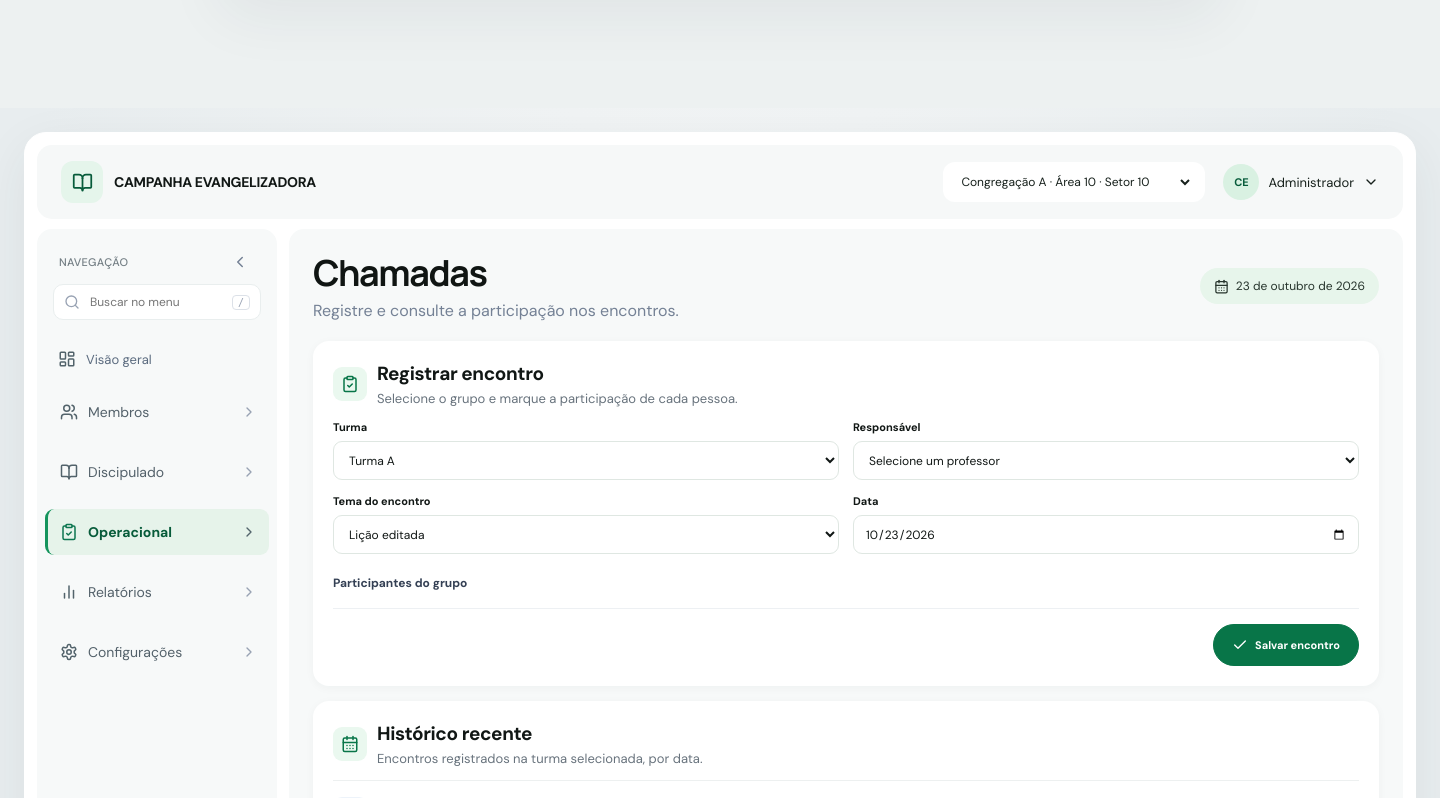
Test case: aulas disponíveis para chamada › oculta apenas as aulas já registradas na turma selecionada
(page scrolled)
Expected: the dropdown labelled "Tema do encontro" shows "Lição editada", [333,515,839,554]
Expected: the option "Lição original" is not shown
Select "Turma B" in the dropdown labelled "Turma": (586, 461) [333,441,839,480]
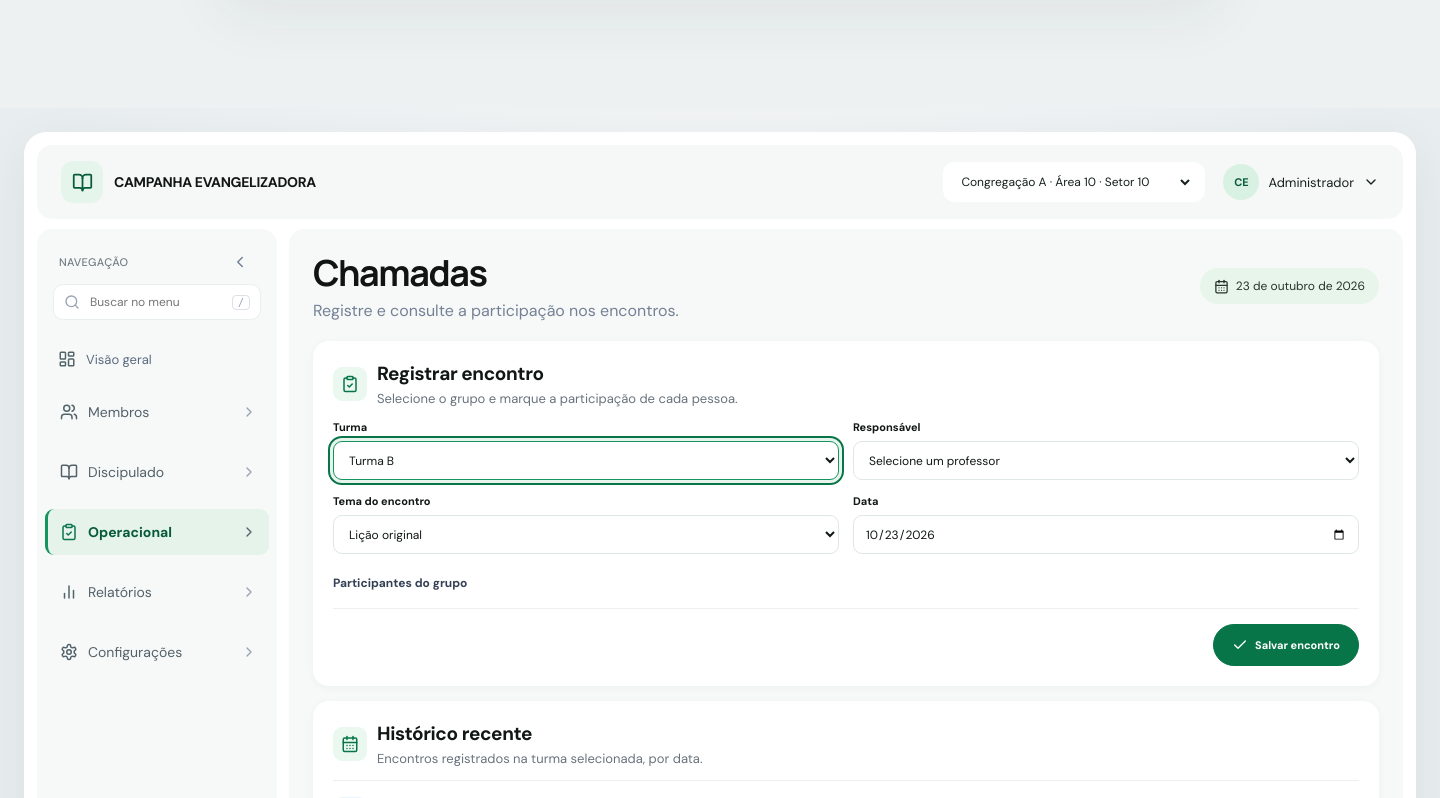
Expected: the option "Lição editada" is not shown
Expected: the dropdown labelled "Tema do encontro" shows "Lição original", [333,515,839,554]
